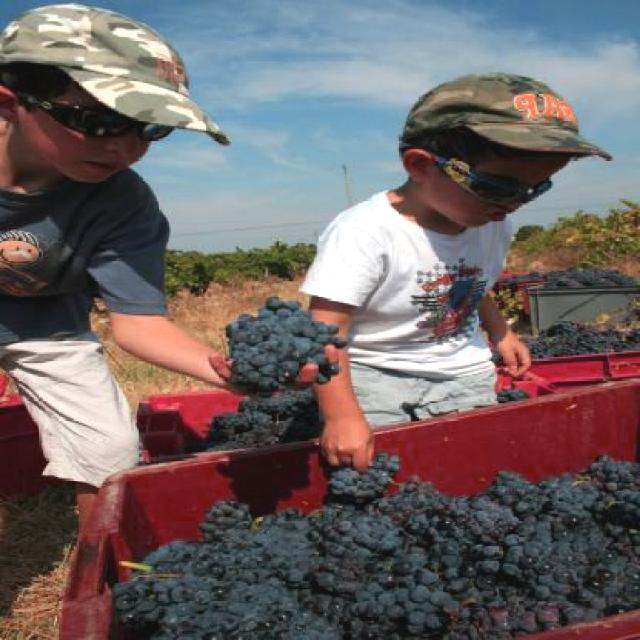face_nomask: (63, 101, 186, 176), (472, 172, 542, 232)
glasses: (64, 102, 184, 144), (462, 164, 562, 208)
hand_noglove: (316, 421, 379, 468), (491, 332, 534, 381)
head_nohelmet: (0, 28, 213, 100), (418, 75, 602, 156)
person: (0, 7, 243, 521), (298, 70, 594, 490)
